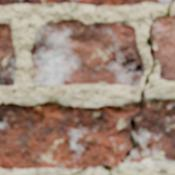brick: (31, 20, 142, 86), (156, 17, 174, 81), (0, 24, 16, 85), (30, 0, 174, 5), (0, 0, 12, 5), (15, 0, 20, 4)
broken_brick: (0, 99, 174, 170)
crack: (102, 2, 174, 172), (70, 168, 86, 174), (21, 0, 29, 4), (10, 0, 16, 5)
